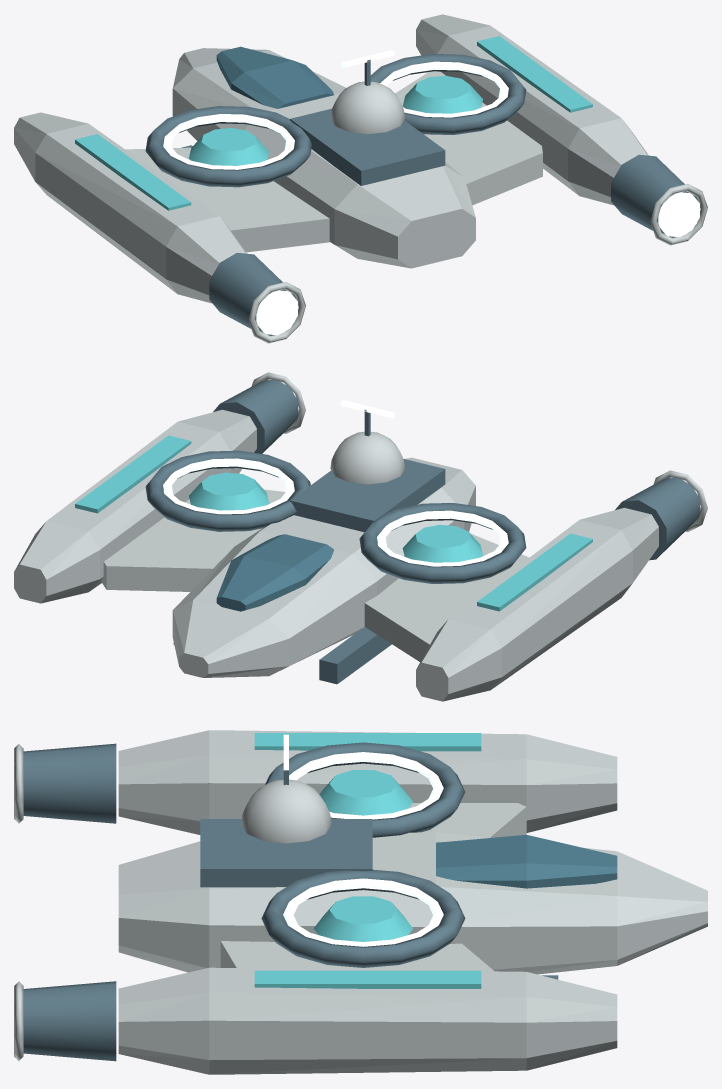
Rendered from support.glb.
3 views of the same model, one above another, from view 1: azimuth 30°, elevation 25°; view 2: azimuth 150°, elevation 25°; view 3: azimuth 270°, elevation 25° (orthographic). The views are drawn at different scales.
Parts seen in each view (by area): view 1: support; view 2: support; view 3: support.
Boxes of the visible parts, x1,y1,x2,y2 form: support: (14, 14, 707, 343); support: (14, 372, 707, 701); support: (14, 730, 707, 1074).
Size of the model in its own units: 15.92 by 5.7 by 16.92.
